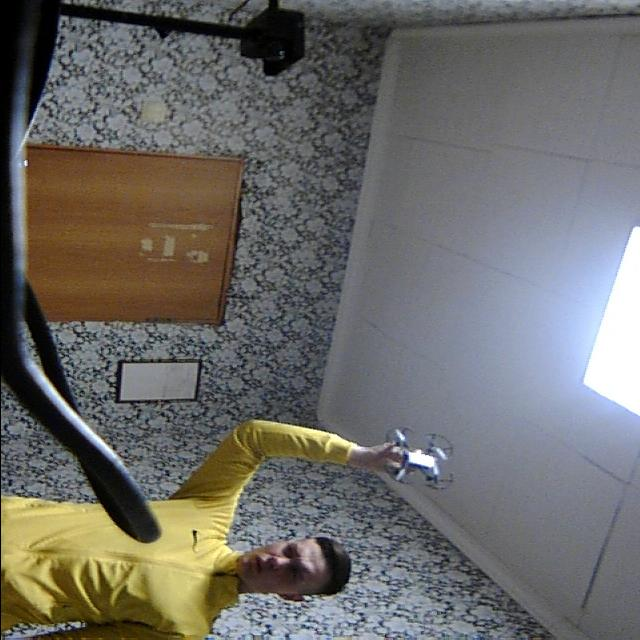drone: (384, 424, 466, 491)
